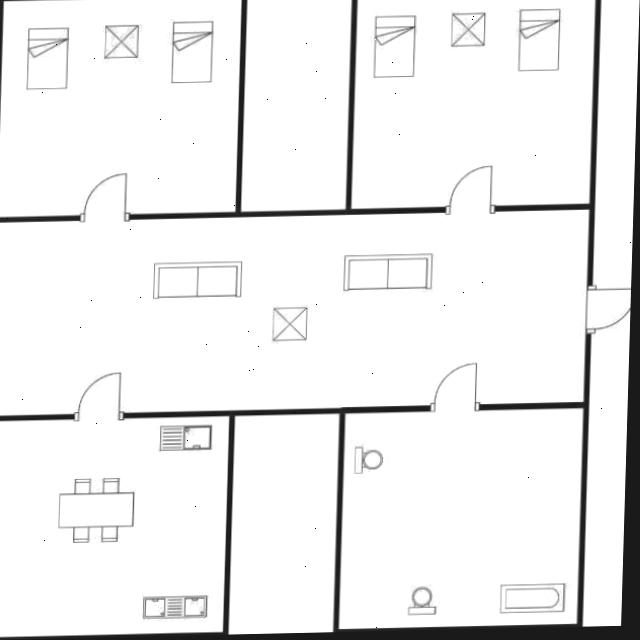room: (0, 209, 594, 416), (334, 408, 588, 629), (0, 0, 242, 217), (0, 416, 234, 637), (351, 0, 596, 209)
